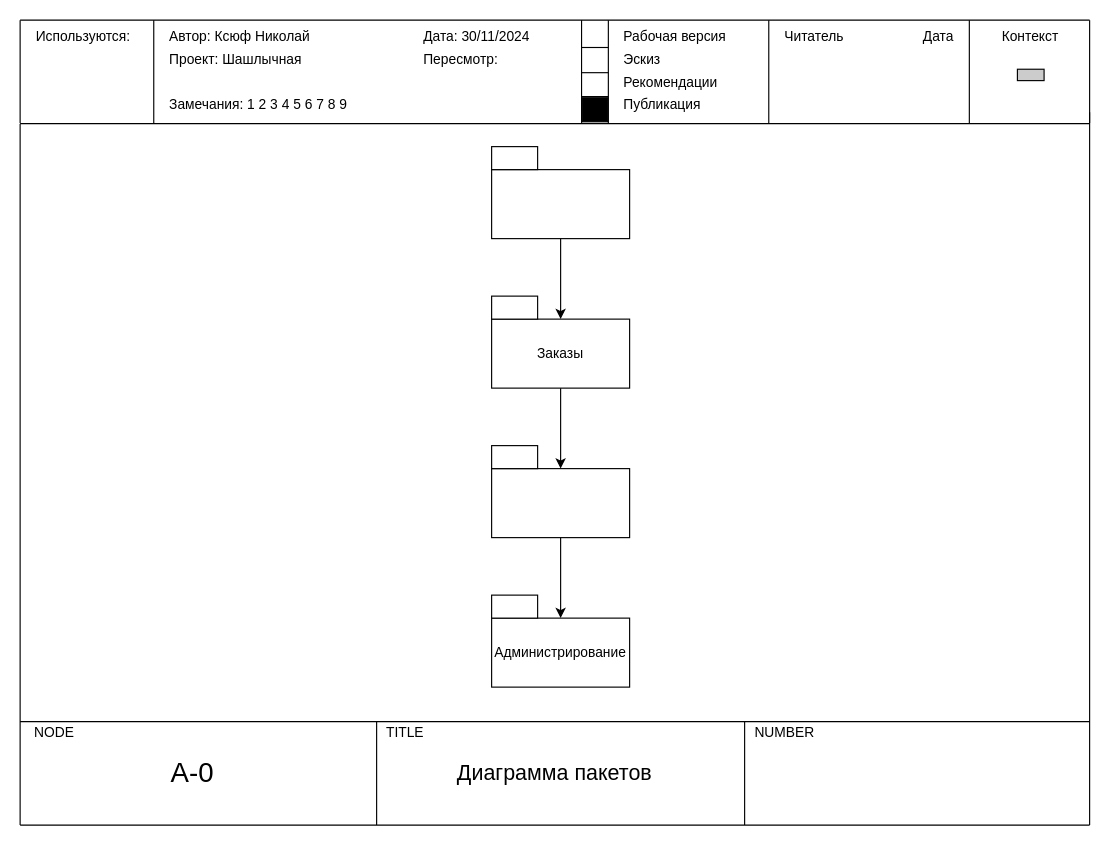
Some shapes in this 1111 by 846 pixel diagram are drawn without their labels. Here are the shapes that lost their labels. From the top down, the centre of each, then its label:
At point 560,203: "Пользователи".
At point 560,502: "Блюда".
